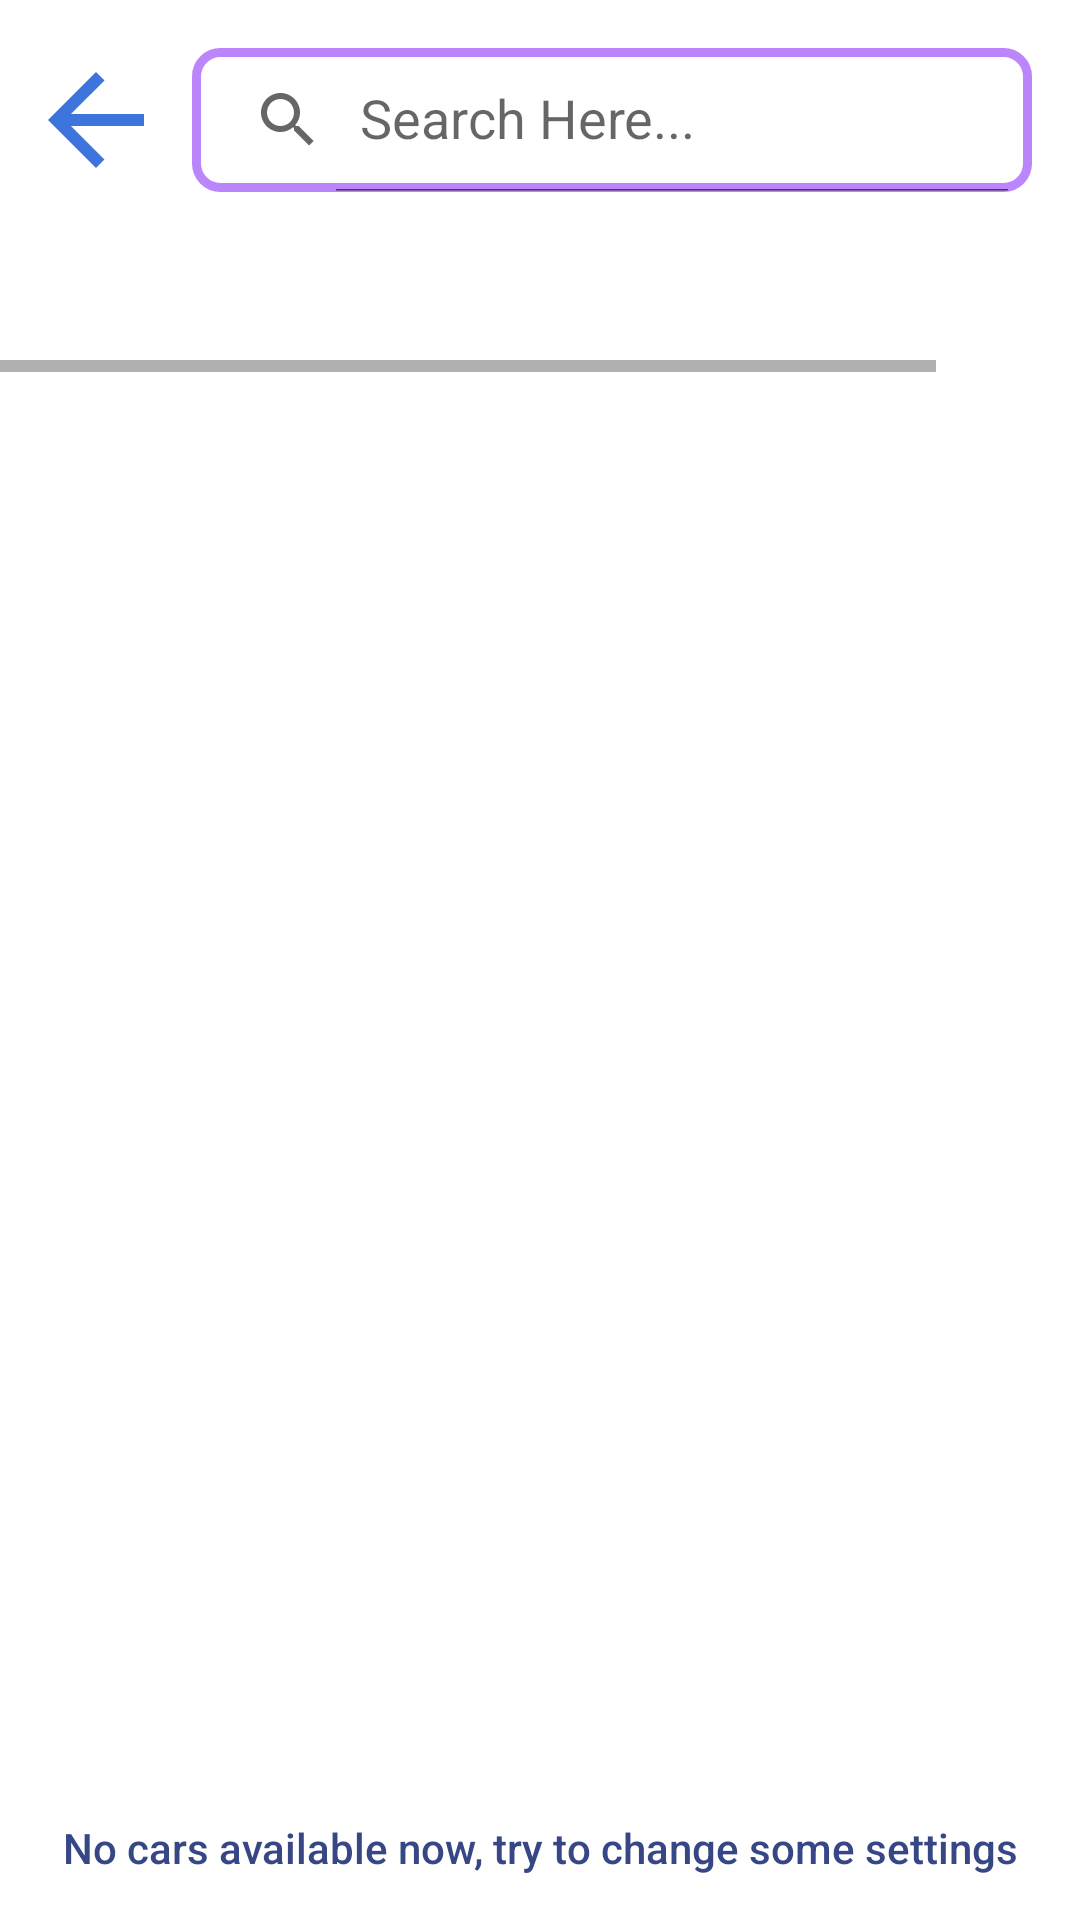

Where to tap for icons on this 1080 × 1920 app screen, as [x,y]:
back: [96,120]
